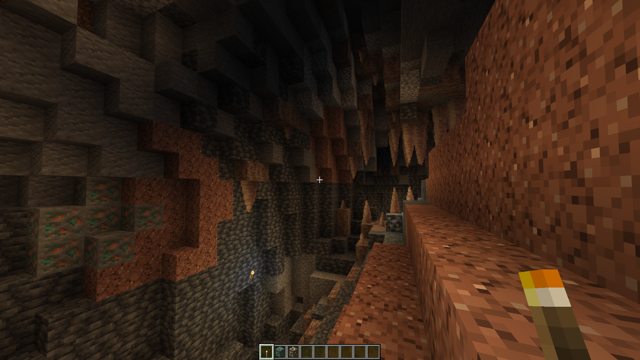copper: (33, 172, 164, 273)
iron: (385, 213, 403, 232)
